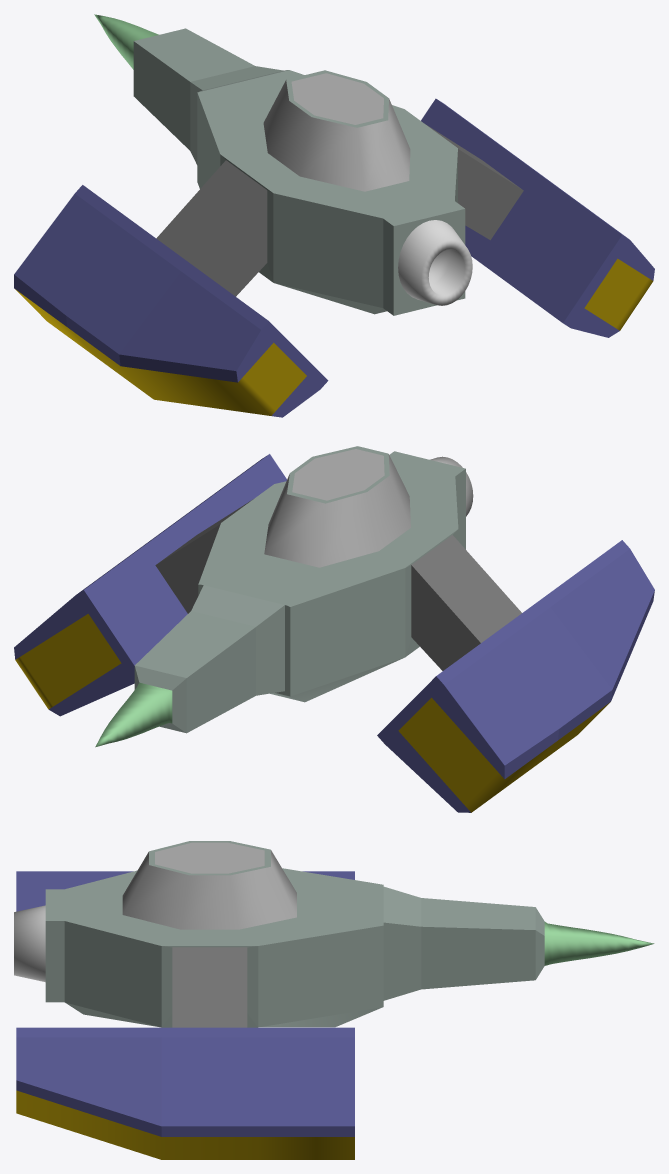
Rendered from ship1.fbx.
3 renders of one model, top to bottom at view 1: azimuth 30°, elevation 25°; view 2: azimuth 150°, elevation 25°; view 3: azimuth 270°, elevation 25°, orthographic. The views are drawn at different scales.
Parts seen in each view (by area): view 1: Ship; view 2: Ship; view 3: Ship.
Boxes of the visible parts, <box> form: Ship: <box>14,14,654,417</box>; Ship: <box>14,446,654,812</box>; Ship: <box>14,841,654,1159</box>.
Size of the model in its own units: 10.69 by 4.83 by 13.25.
